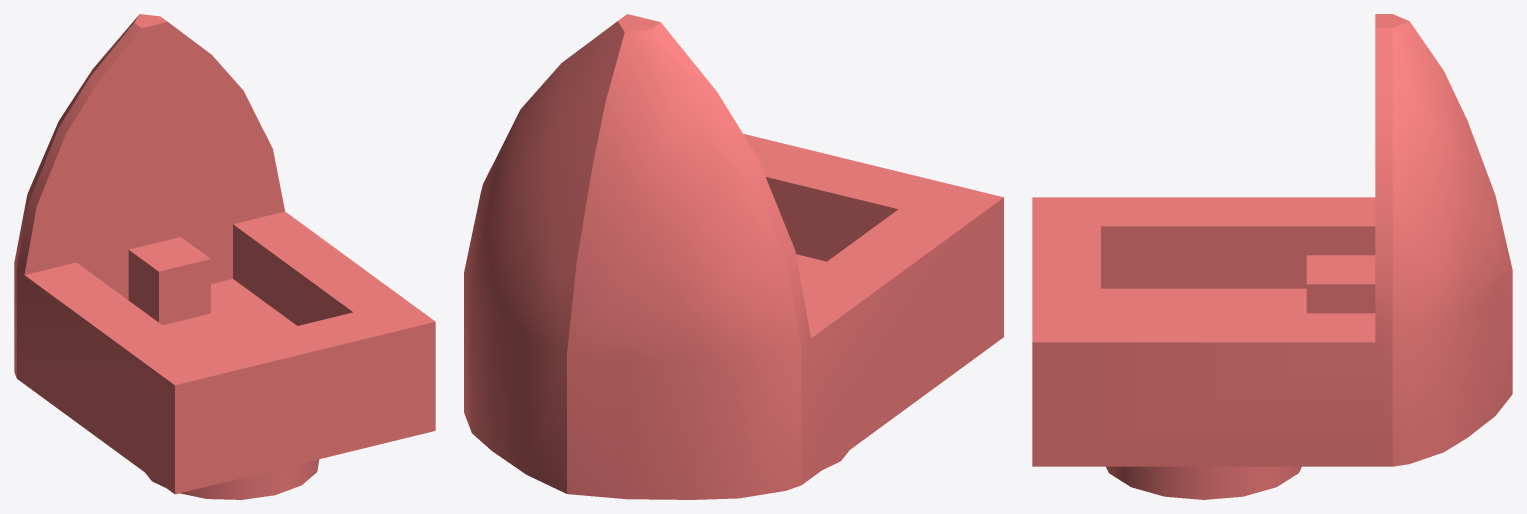
The picture shows the model from 3 angles, left to right: view 1: azimuth 30°, elevation 25°; view 2: azimuth 150°, elevation 25°; view 3: azimuth 270°, elevation 25°; orthographic projection. The views are drawn at different scales.
Parts seen in each view (by area): view 1: LDrawPart; view 2: LDrawPart; view 3: LDrawPart.
Part boxes in pixels (x1,y1,x2,y2): LDrawPart: (14,14,435,499); LDrawPart: (464,14,1003,499); LDrawPart: (1032,14,1512,499).
Bounding box in the file's own units: 0.14 × 0.196 × 0.196.
